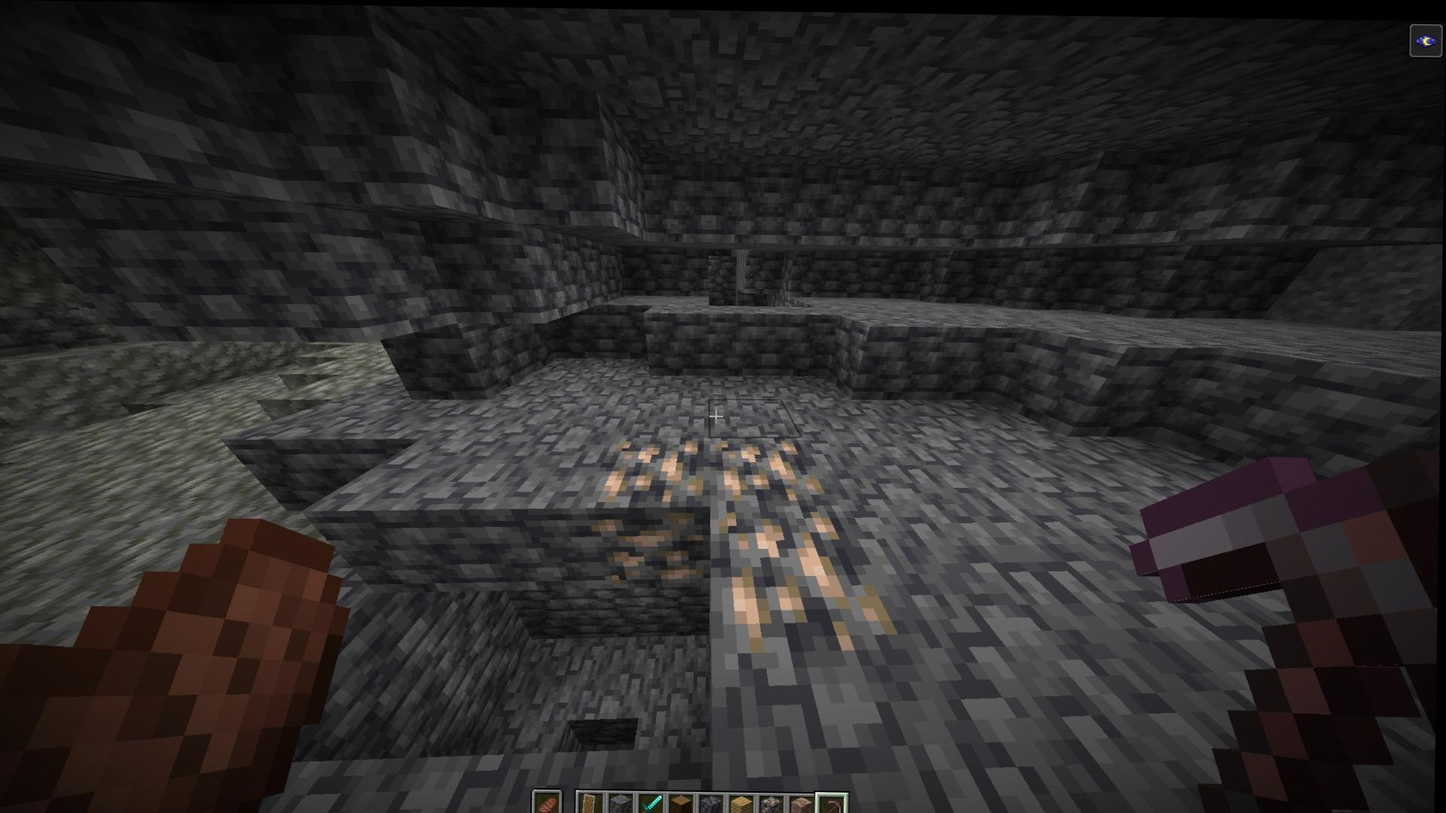iron ore: (713, 503, 902, 653), (590, 504, 714, 585), (707, 432, 827, 499), (598, 433, 708, 503)
